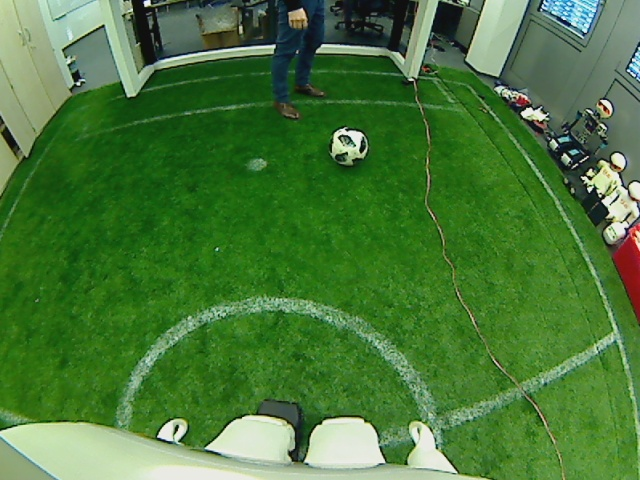ball: (327, 126, 371, 167)
